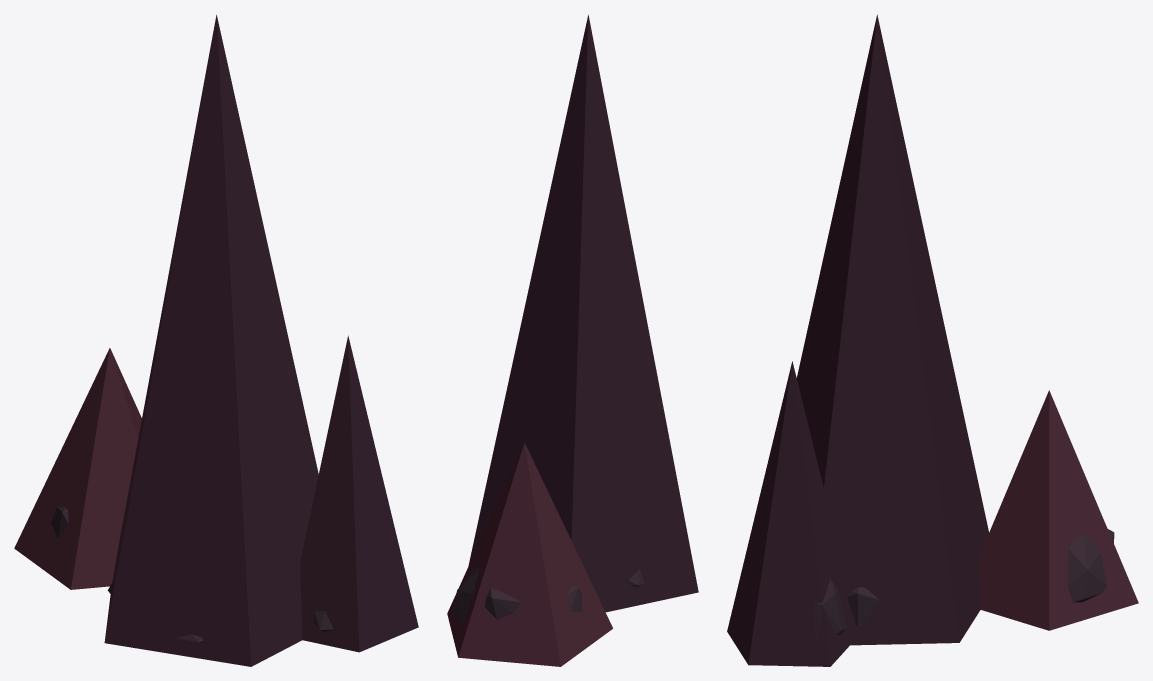
Rendered from FSA_ENV_Arena_Spikes_03.glb.
3 renders of one model, left to right at view 1: azimuth 30°, elevation 25°; view 2: azimuth 150°, elevation 25°; view 3: azimuth 270°, elevation 25°, orthographic. The views are drawn at different scales.
Parts seen in each view (by area): view 1: Spike_0, Spike_2, Spike_1; view 2: Spike_0, Spike_1, Basalt_1; view 3: Spike_0, Spike_2, Spike_1, Basalt_1, Basalt_2, Basalt_0.
Boxes of the visible parts, x1,y1,x2,y2 form: Spike_0: (104,15,318,666); Spike_2: (300,335,418,652); Spike_1: (14,348,141,589); Spike_0: (468,14,698,612); Spike_1: (447,442,612,666); Basalt_1: (453,567,582,624); Spike_0: (796,14,988,645); Spike_2: (727,361,849,666); Spike_1: (978,390,1138,630); Basalt_1: (1067,529,1114,602); Basalt_2: (813,579,846,645); Basalt_0: (847,587,878,626).
Size of what is drawn, in the model's own units: 1.37 by 3.1 by 1.95.
